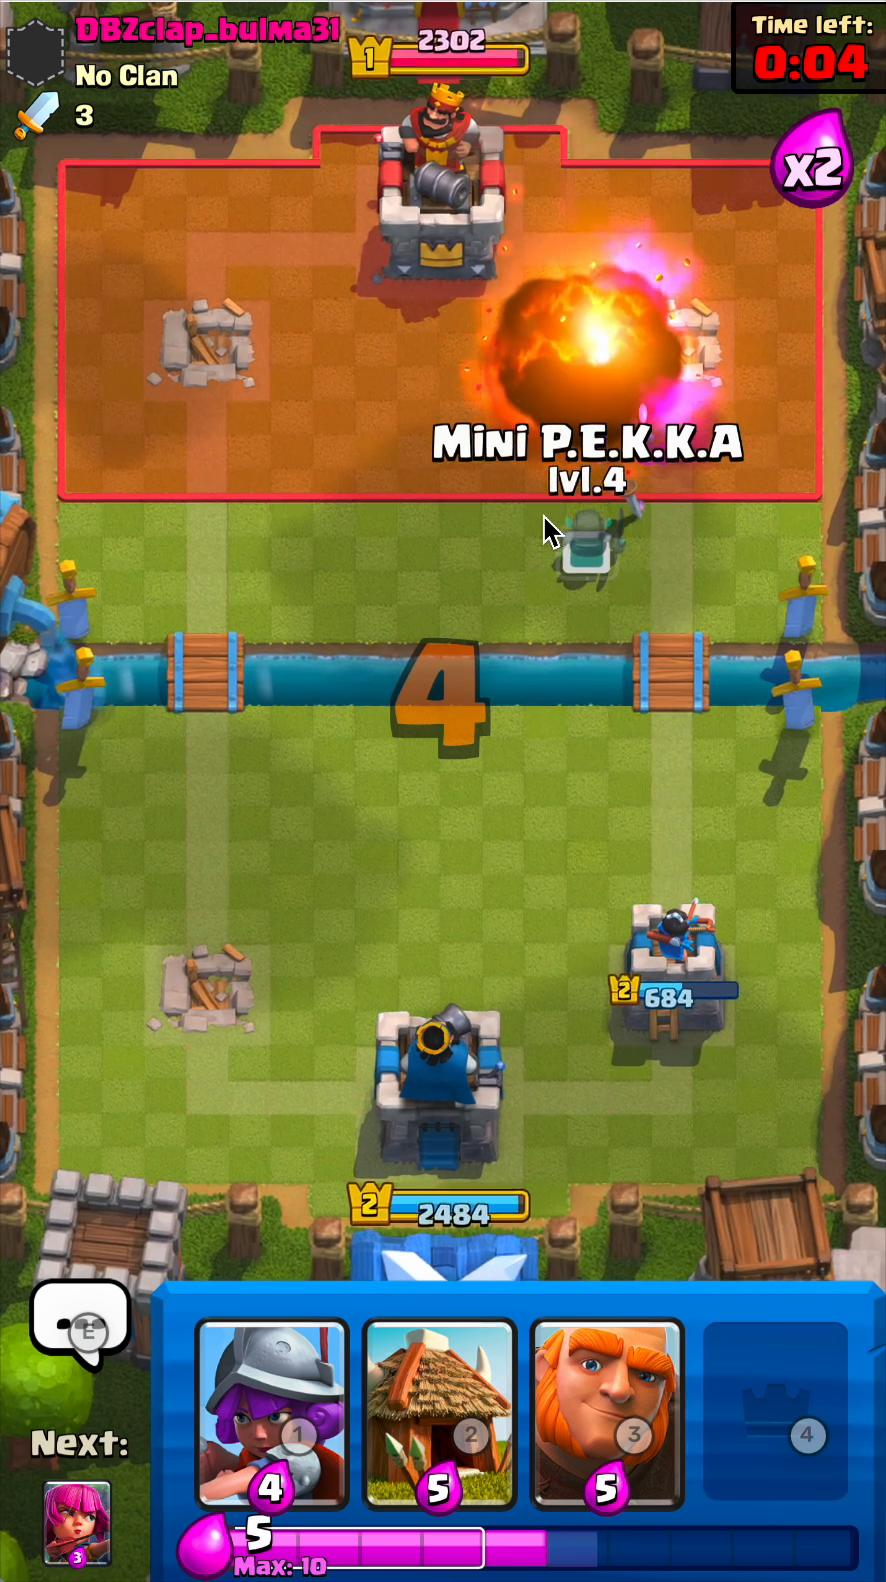mini_PEKKA: (544, 498, 636, 582)
